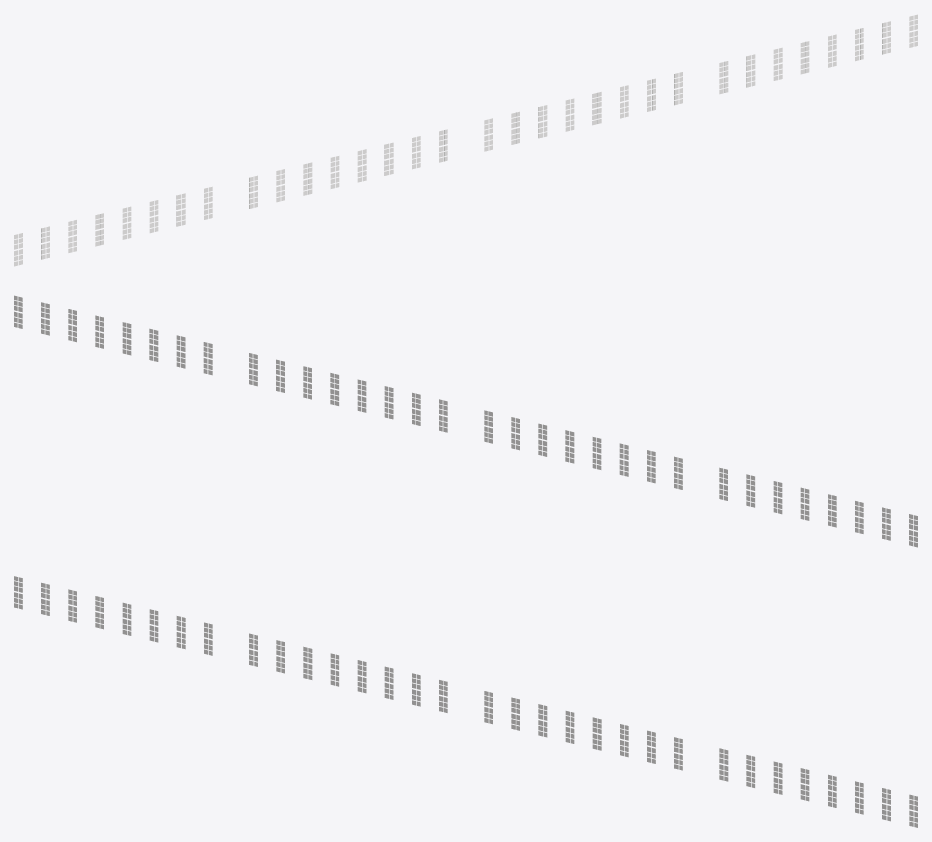
File: a_SWGuthunder01.glb
The picture shows the model from 3 angles, top to bottom: view 1: azimuth 30°, elevation 25°; view 2: azimuth 150°, elevation 25°; view 3: azimuth 330°, elevation 25°; orthographic projection.
Visible parts, largest first — view 1: a_SWGuthunder01; view 2: a_SWGuthunder01; view 3: a_SWGuthunder01.
Part boxes in pixels (x1,y1,x2,y2): a_SWGuthunder01: (14,14,917,266); a_SWGuthunder01: (14,295,917,547); a_SWGuthunder01: (14,576,917,827).
Bounding box in the file's own units: 49.98 × 1.66 × 0.00817.
1 material, 1 textured.
